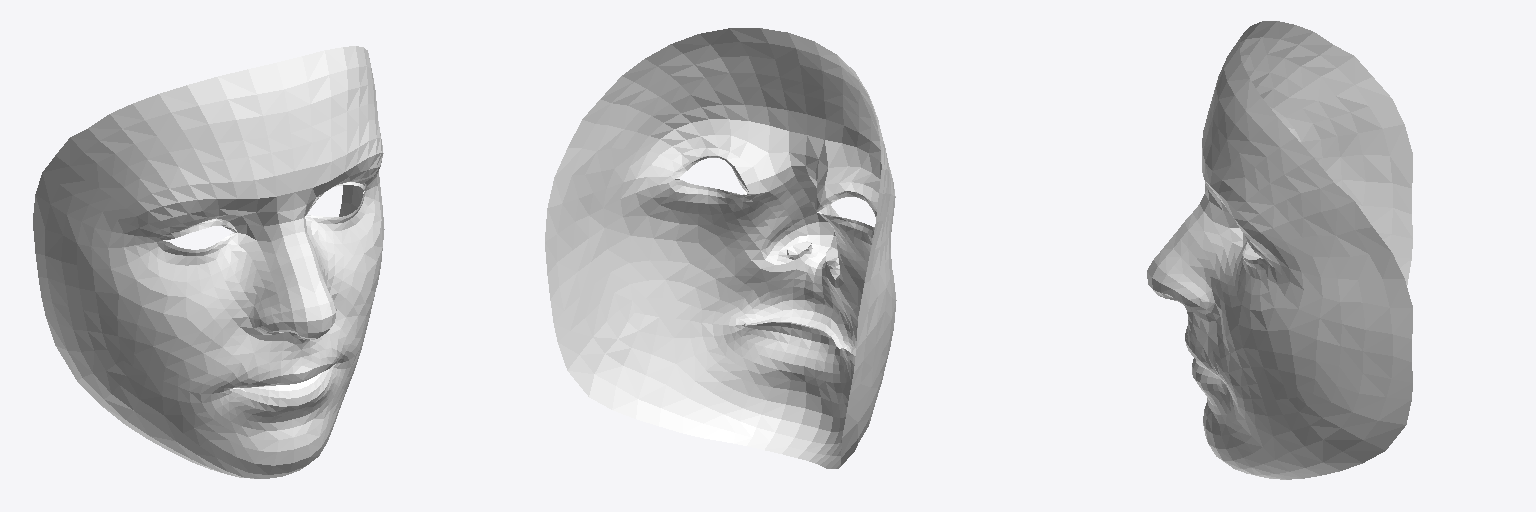
File: eyeWide_L.obj
The picture shows the model from 3 angles: view 1: azimuth 30°, elevation 25°; view 2: azimuth 150°, elevation 25°; view 3: azimuth 270°, elevation 25°; orthographic projection.
Visible parts, largest first — view 1: default; view 2: default; view 3: default.
Boxes of the visible parts, box(x1,y1,x2,y2) form: default: box(33, 46, 384, 478); default: box(545, 28, 896, 468); default: box(1147, 21, 1412, 479).
Bounding box in the file's own units: 0.1447 × 0.182 × 0.1055.